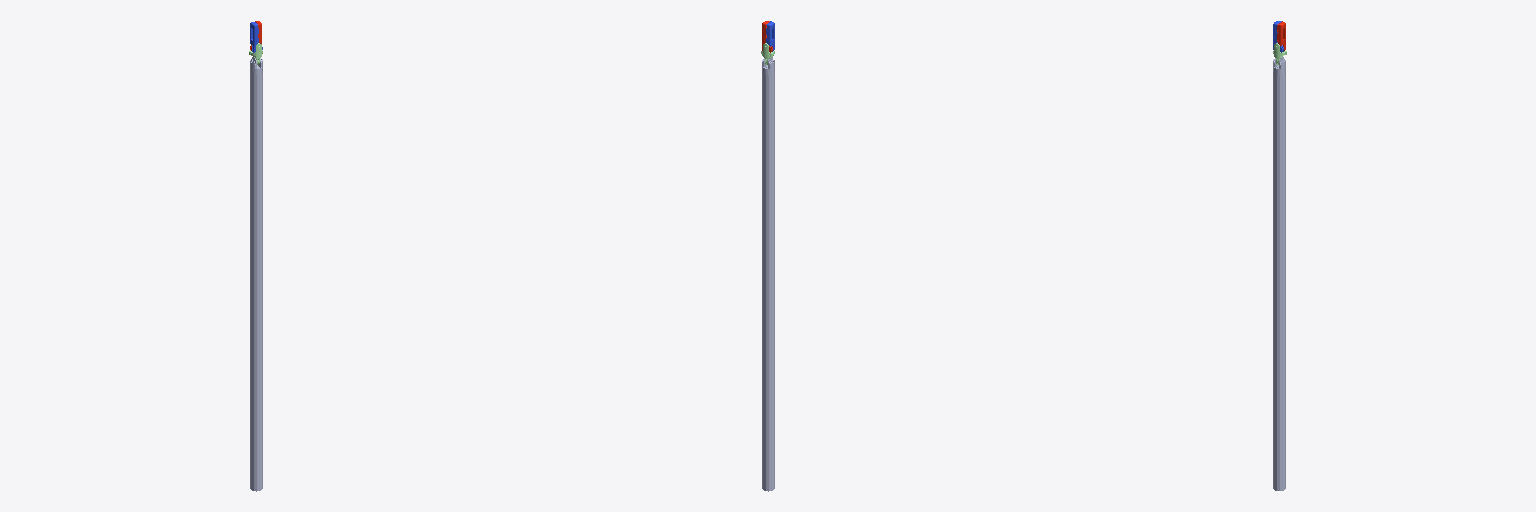
URDF robot description (openrst):
<?xml version="1.0" encoding="utf-8"?>

<robot name="openrst" version="1.0">
  <link
    name="openrst_base_link">
    <inertial>
      <origin
        xyz="-0.00149044162951133 3.88166641877133E-05 0.0447075908051869"
        rpy="0 0 0" />
      <mass
        value="0.298186310510585" />
      <inertia
        ixx="0.000154776223901756"
        ixy="-3.74733857377063E-07"
        ixz="1.53127145926008E-06"
        iyy="0.000144719807415472"
        iyz="-3.22842778667153E-07"
        izz="0.000229690754405414" />
    </inertial>
    <visual>
      <origin
        xyz="0 0 0"
        rpy="0 0 0" />
      <geometry>
        <mesh
          filename="package://asar_description/meshes/openrst_base_link.STL" />
      </geometry>
      <material
        name="">
        <color
          rgba="0.752941176470588 0.752941176470588 0.752941176470588 1" />
      </material>
    </visual>
    <collision>
      <origin
        xyz="0 0 0"
        rpy="0 0 0" />
      <geometry>
        <mesh
          filename="package://asar_description/meshes/openrst_base_link.STL" />
      </geometry>
    </collision>
  </link>

  <link
    name="interface_link">
    <inertial>
      <origin
        xyz="3.00086145239549E-09 2.112459961582E-11 0.147402389131478"
        rpy="0 0 0" />
      <mass
        value="0.00261293291328178" />
      <inertia
        ixx="1.63505872923441E-05"
        ixy="3.8663038074946E-12"
        ixz="-3.42186336718604E-14"
        iyy="1.63509454131809E-05"
        iyz="7.48161673523837E-15"
        izz="3.57106513425572E-08" />
    </inertial>
    <visual>
      <origin
        xyz="0 0 0"
        rpy="0 0 0" />
      <geometry>
        <mesh
          filename="package://asar_description/meshes/interface_link.STL" />
      </geometry>
      <material
        name="">
        <color
          rgba="0.792156862745098 0.819607843137255 0.933333333333333 1" />
      </material>
    </visual>
    <collision>
      <origin
        xyz="0 0 0"
        rpy="0 0 0" />
      <geometry>
        <mesh
          filename="package://asar_description/meshes/interface_link.STL" />
      </geometry>
    </collision>
  </link>
  <joint
    name="joint_interface"
    type="fixed">
    <origin
      xyz="-0.00027829 0 0.13908"
      rpy="0 0 0" />
    <parent
      link="openrst_base_link" />
    <child
      link="interface_link" />
    <axis
      xyz="0 0 0" />
  </joint>
  <link
    name="pitch_link">
    <inertial>
      <origin
        xyz="2.52485481626179E-08 -0.00460242657509724 1.23891152045854E-06"
        rpy="0 0 0" />
      <mass
        value="0.000212134241063242" />
      <inertia
        ixx="2.33719234235661E-09"
        ixy="3.22762522867187E-14"
        ixz="-3.5296103126231E-13"
        iyy="1.52969345561766E-09"
        iyz="-2.85012982590978E-13"
        izz="3.09921927199525E-09" />
    </inertial>
    <visual>
      <origin
        xyz="0 0 0"
        rpy="0 0 0" />
      <geometry>
        <mesh
          filename="package://asar_description/meshes/pitch_link.STL" />
      </geometry>
      <material
        name="">
        <color
          rgba="0.752941176470588 1 0.752941176470588 1" />
      </material>
    </visual>
    <collision>
      <origin
        xyz="0 0 0"
        rpy="0 0 0" />
      <geometry>
        <mesh
          filename="package://asar_description/meshes/pitch_link.STL" />
      </geometry>
    </collision>
  </link>
  <joint
    name="joint_f0_pitch"
    type="revolute">
    <origin
      xyz="0 0 0.28"
      rpy="-1.5708 0 -1.5708" />
    <parent
      link="interface_link" />
    <child
      link="pitch_link" />
    <axis
      xyz="0 0 1" />
    <limit
      lower="-1.570796"
      upper="1.570796"
      effort="1"
      velocity="5.2" />
  </joint>
  <link
    name="finger_left_link">
    <inertial>
      <origin
        xyz="-0.000728060044408658 -0.00823166125452757 -0.000323786767286641"
        rpy="0 0 0" />
      <mass
        value="0.00013941238132763" />
      <inertia
        ixx="5.12659773643428E-09"
        ixy="-1.58252679742548E-10"
        ixz="1.2677240722727E-11"
        iyy="4.62351522859708E-10"
        iyz="2.54948987001423E-10"
        izz="4.84498957565075E-09" />
    </inertial>
    <visual>
      <origin
        xyz="0 0 0"
        rpy="0 0 0" />
      <geometry>
        <mesh
          filename="package://asar_description/meshes/finger_left_link.STL" />
      </geometry>
      <material
        name="">
        <color
          rgba="1 0.250980392156863 0.12156862745098 1" />
      </material>
    </visual>
    <collision>
      <origin
        xyz="0 0 0"
        rpy="0 0 0" />
      <geometry>
        <mesh
          filename="package://asar_description/meshes/finger_left_link.STL" />
      </geometry>
    </collision>
  </link>
  <joint
    name="joint_f1_finger_left"
    type="revolute">
    <origin
      xyz="0 -0.009 0"
      rpy="0 1.5708 0" />
    <parent
      link="pitch_link" />
    <child
      link="finger_left_link" />
    <axis
      xyz="0 0 1" />
    <limit
      lower="-1.570796"
      upper="1.570796"
      effort="1"
      velocity="5.2" />
  </joint>
  <link
    name="finger_right_link">
    <inertial>
      <origin
        xyz="0.000613324471596387 -0.00690795444614234 0.000398239206621067"
        rpy="0 0 0" />
      <mass
        value="0.000166395577602424" />
      <inertia
        ixx="7.09019614386052E-09"
        ixy="3.26224119342583E-10"
        ixz="3.64778078548204E-11"
        iyy="6.20037783086121E-10"
        iyz="-4.2629331679326E-10"
        izz="6.90443851391549E-09" />
    </inertial>
    <visual>
      <origin
        xyz="0 0 0"
        rpy="0 0 0" />
      <geometry>
        <mesh
          filename="package://asar_description/meshes/finger_right_link.STL" />
      </geometry>
      <material
        name="">
        <color
          rgba="0.27843137254902 0.43921568627451 1 1" />
      </material>
    </visual>
    <collision>
      <origin
        xyz="0 0 0"
        rpy="0 0 0" />
      <geometry>
        <mesh
          filename="package://asar_description/meshes/finger_right_link.STL" />
      </geometry>
    </collision>
  </link>
  <joint
    name="joint_f2_finger_right"
    type="revolute">
    <origin
      xyz="0 -0.009 0"
      rpy="0 1.5708 0" />
    <parent
      link="pitch_link" />
    <child
      link="finger_right_link" />
    <axis
      xyz="0 0 1" />
    <limit
      lower="-1.570796"
      upper="1.570796"
      effort="1"
      velocity="5.2" />
  </joint>
  <link name="ee_link" />
  <joint name="joint_ee" type="fixed">
    <origin xyz="0 -0.015 0.0" rpy="0.0 0.0 0.0" />
    <parent link="finger_left_link" />
    <child link="ee_link" />
    <axis xyz="0 0 0" />
  </joint>
</robot>

--- Facts derived from the render (not from the file) ---
3 views of the same robot in one strip: view 1: azimuth 30°, elevation 25°; view 2: azimuth 150°, elevation 25°; view 3: azimuth 330°, elevation 25° (orthographic).
Robot: openrst — 6 links, 5 joints (3 revolute, 2 fixed); root link openrst_base_link; default pose: all joints at 0.
Links seen in each view (by area): view 1: interface_link; view 2: interface_link; view 3: interface_link.
Link boxes in pixels (x1=…): interface_link: x1=250, y1=57, x2=262, y2=491; interface_link: x1=762, y1=57, x2=774, y2=491; interface_link: x1=1273, y1=57, x2=1285, y2=490.
Bounding box of the posed robot: 0.0088 × 0.008 × 0.3355 m (x, y, z).
4 mesh visuals loaded from 5 distinct referenced files (4 binary STL); not drawn: 1 (reference not matched to a file when rendering).
